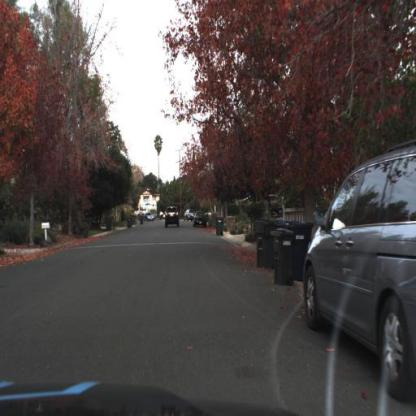car: (302, 142, 416, 405), (162, 205, 182, 230), (193, 211, 209, 233), (147, 213, 155, 223), (185, 210, 193, 220)
